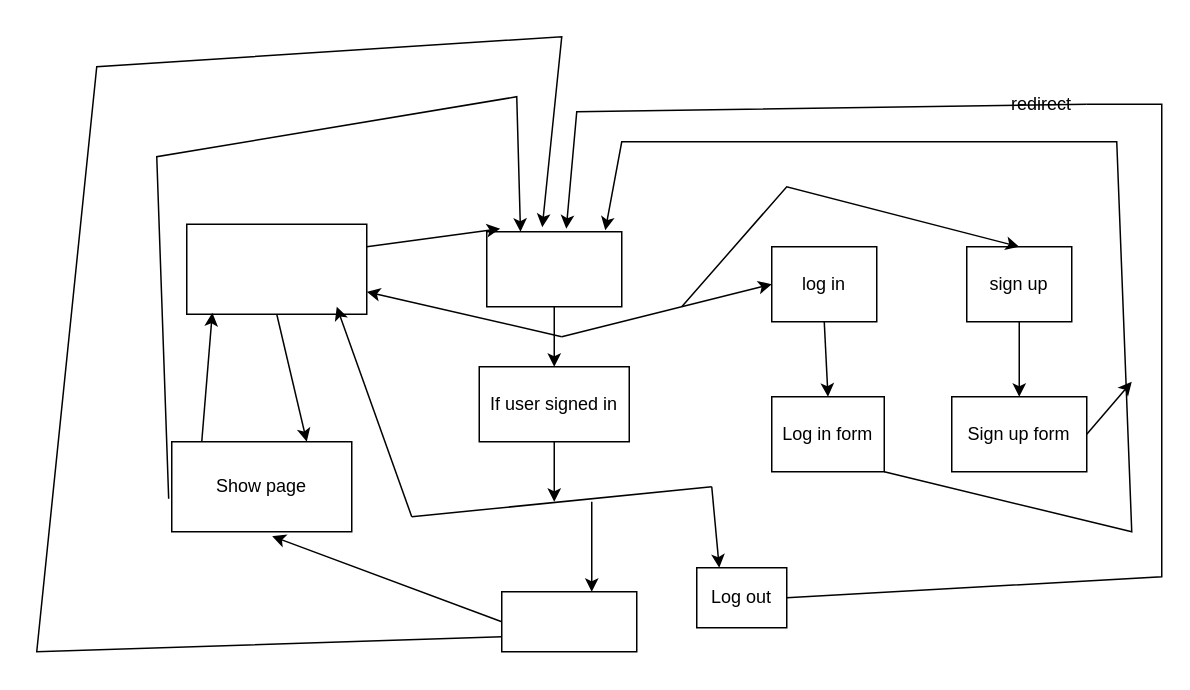
Some shapes in this 1190 by 690 pixel diagram are drawn without their labels. The shapes that lost their labels are listed below. From the top down, each one's box as (x1, y1, x2, y2) in pixels, then its label:
(185, 223, 367, 314): All listings
(485, 230, 622, 307): Home Page
(500, 590, 637, 652): Create List
